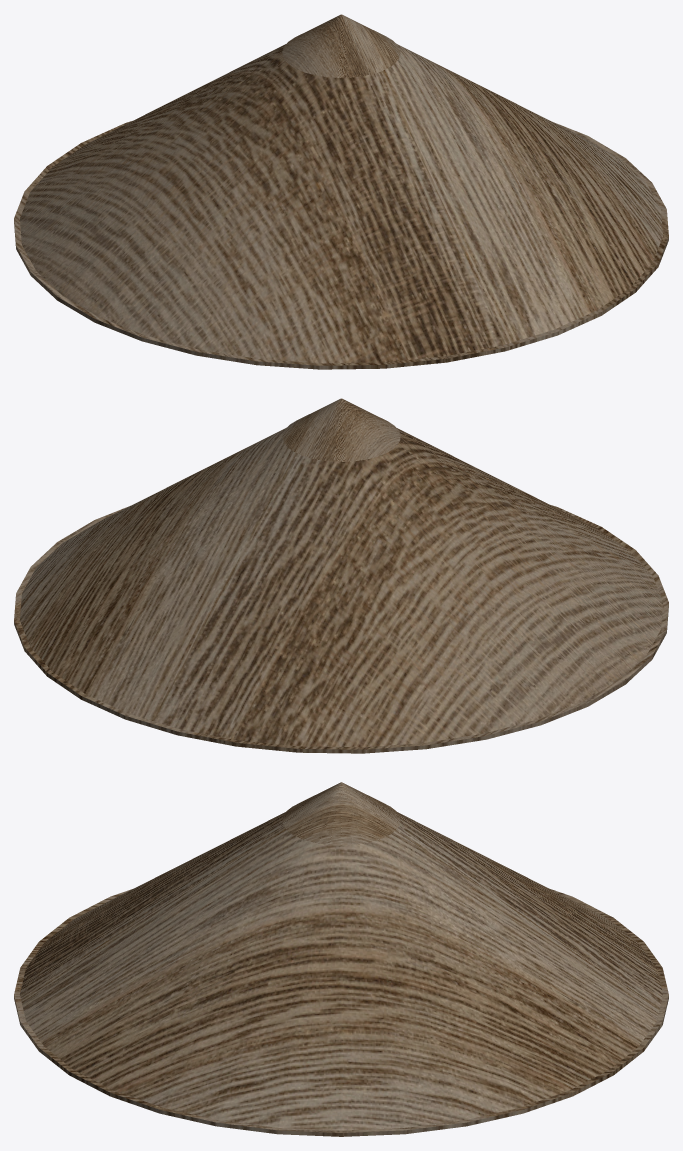
The model's file is rice_hat.glb.
3 views of the same model, one above another, from view 1: azimuth 30°, elevation 25°; view 2: azimuth 150°, elevation 25°; view 3: azimuth 270°, elevation 25° (orthographic).
Visible parts, largest first — view 1: Cone_Cone_Material_001; view 2: Cone_Cone_Material_001; view 3: Cone_Cone_Material_001.
Part boxes in pixels (bbox=[...]): Cone_Cone_Material_001: bbox=[14, 14, 668, 369]; Cone_Cone_Material_001: bbox=[14, 398, 668, 753]; Cone_Cone_Material_001: bbox=[14, 782, 668, 1136].
Bounding box in the file's own units: 2.43 × 0.8852 × 2.43.
1 material, 1 textured.
